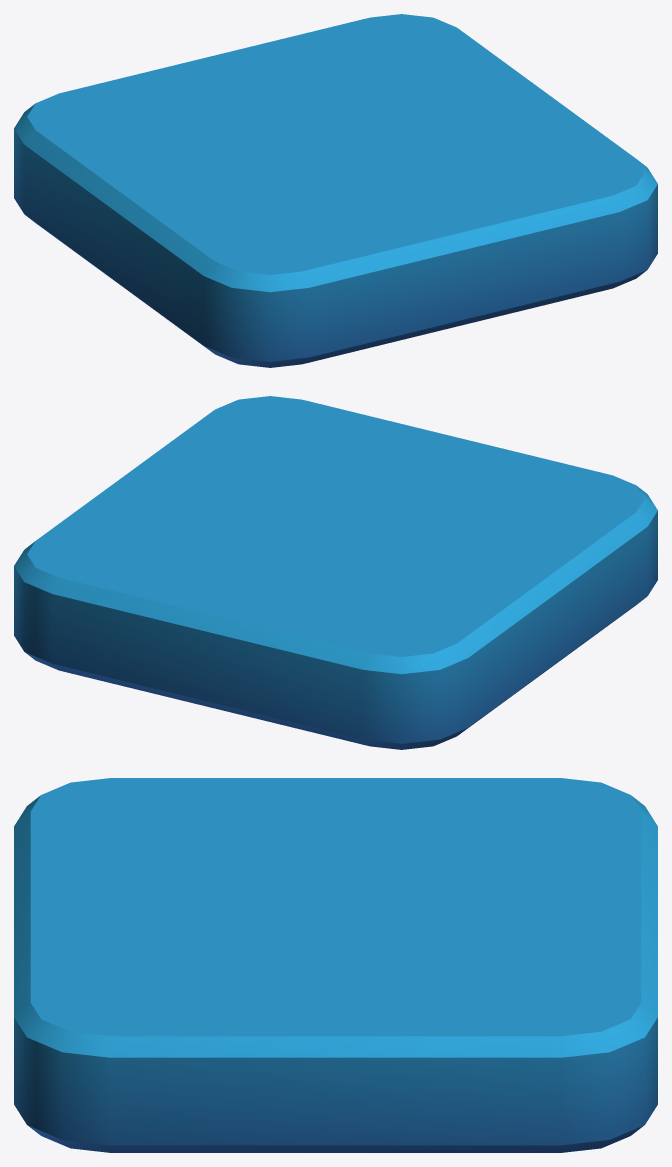
File: tile-blue.glb
3 views of the same model, one above another, from view 1: azimuth 30°, elevation 25°; view 2: azimuth 150°, elevation 25°; view 3: azimuth 270°, elevation 25° (orthographic). The views are drawn at different scales.
Parts seen in each view (by area): view 1: tile_blue; view 2: tile_blue; view 3: tile_blue.
Part boxes in pixels (left/top/right/bottom): tile_blue: left=14, top=14, right=657, bottom=367; tile_blue: left=14, top=396, right=657, bottom=749; tile_blue: left=14, top=778, right=657, bottom=1152.
Bounding box in the file's own units: 1 × 0.2 × 1.
1 material, 1 textured.
